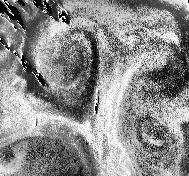CE: (19, 20, 100, 121)
